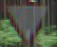Give way: (5, 0, 52, 46)
